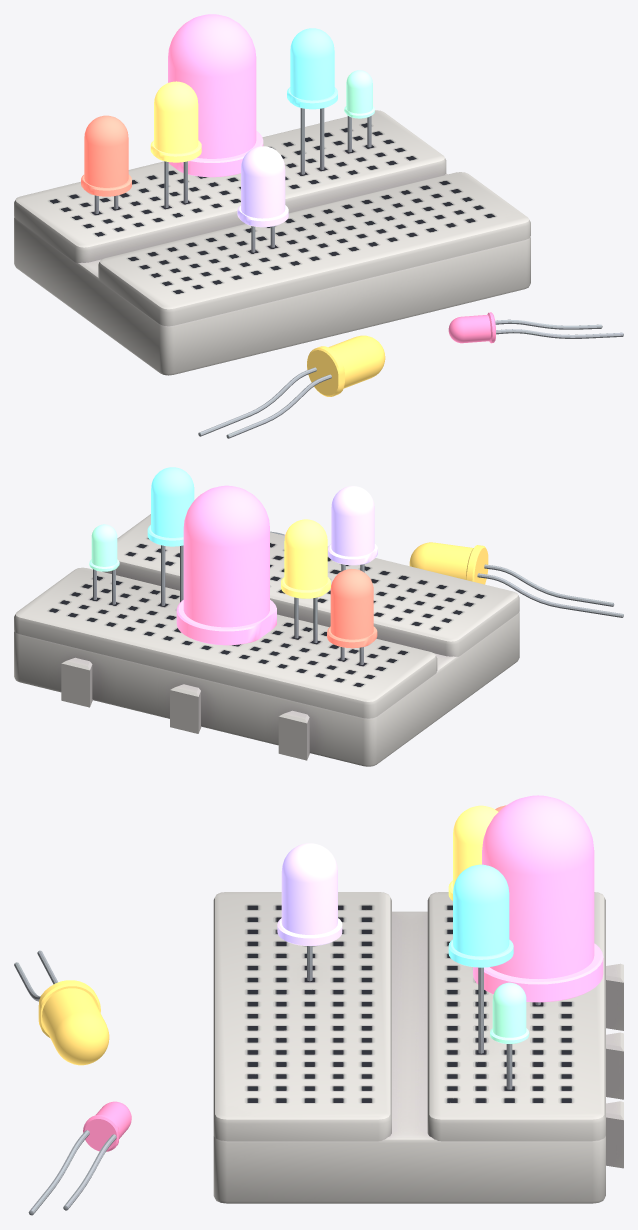
File: led.glb
3 renders of one model, top to bottom at view 1: azimuth 30°, elevation 25°; view 2: azimuth 150°, elevation 25°; view 3: azimuth 270°, elevation 25°, orthographic. The views are drawn at different scales.
Visible parts, largest first — view 1: led_body, led_lenses_rgb; view 2: led_body, led_lenses_rgb; view 3: led_body, led_lenses_rgb.
Part boxes in pixels (bbox=[...]): led_body: bbox=[14, 108, 623, 438]; led_lenses_rgb: bbox=[81, 14, 495, 396]; led_body: bbox=[14, 514, 623, 766]; led_lenses_rgb: bbox=[89, 467, 488, 648]; led_body: bbox=[14, 892, 623, 1215]; led_lenses_rgb: bbox=[38, 795, 603, 1151].
Size of the model in its own units: 0.055 by 0.0279 by 0.0543.
9 materials, 1 textured.
